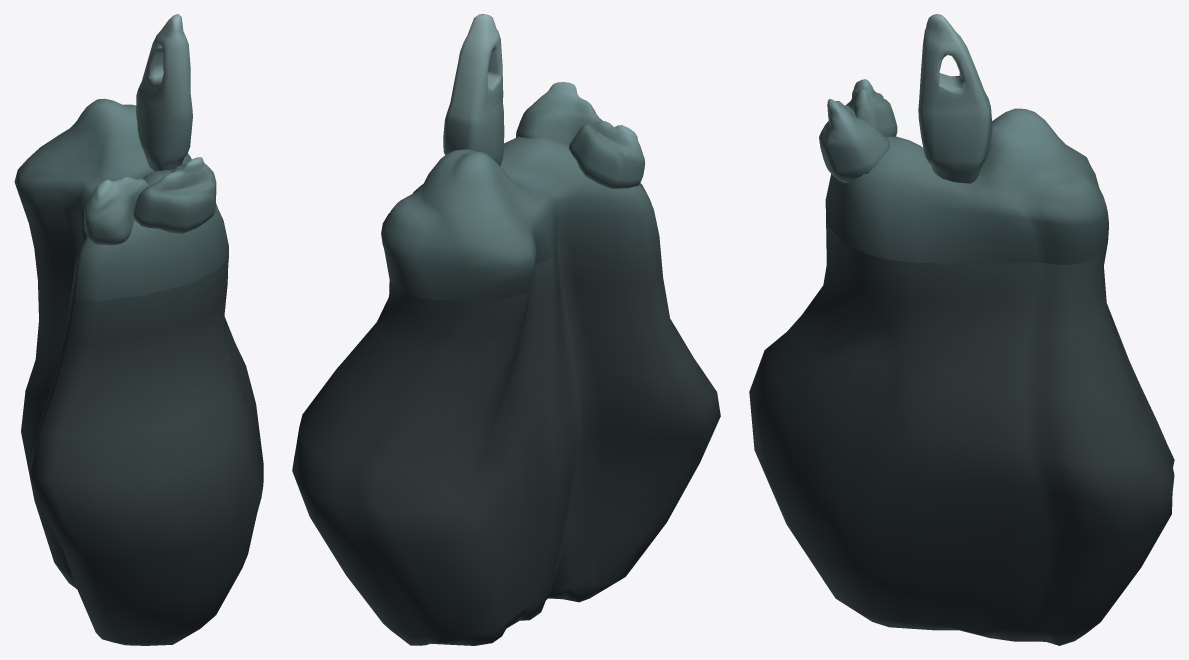
The model's file is ISLAND_01_SMOOTH.fbx.
3 renders of one model, left to right at view 1: azimuth 30°, elevation 25°; view 2: azimuth 150°, elevation 25°; view 3: azimuth 270°, elevation 25°, orthographic. The views are drawn at different scales.
Visible parts, largest first — view 1: ISLAND_01_SMOOTH1, ISLAND_01_SMOOTH, ISLAND_01_PART_B, ISLAND_01_PART_A, ISLAND_01_PART_A1; view 2: ISLAND_01_SMOOTH1, ISLAND_01_SMOOTH, ISLAND_01_PART_B, ISLAND_01_PART_A1, ISLAND_01_PART_A; view 3: ISLAND_01_SMOOTH1, ISLAND_01_SMOOTH, ISLAND_01_PART_B, ISLAND_01_PART_A, ISLAND_01_PART_A1.
Part boxes in pixels (box(x1,y1,x2,y2)): ISLAND_01_SMOOTH1: box(21, 223, 263, 645); ISLAND_01_SMOOTH: box(14, 98, 228, 300); ISLAND_01_PART_B: box(136, 14, 192, 171); ISLAND_01_PART_A: box(133, 157, 216, 233); ISLAND_01_PART_A1: box(84, 176, 149, 245); ISLAND_01_SMOOTH1: box(292, 235, 720, 645); ISLAND_01_SMOOTH: box(381, 136, 659, 301); ISLAND_01_PART_B: box(443, 14, 504, 165); ISLAND_01_PART_A1: box(568, 121, 645, 188); ISLAND_01_PART_A: box(516, 82, 602, 145); ISLAND_01_SMOOTH1: box(749, 207, 1174, 645); ISLAND_01_SMOOTH: box(825, 108, 1108, 264); ISLAND_01_PART_B: box(918, 14, 992, 183); ISLAND_01_PART_A: box(819, 99, 890, 182); ISLAND_01_PART_A1: box(846, 79, 897, 136).
Bounding box in the file's own units: 32.87 × 62.46 × 39.01.
